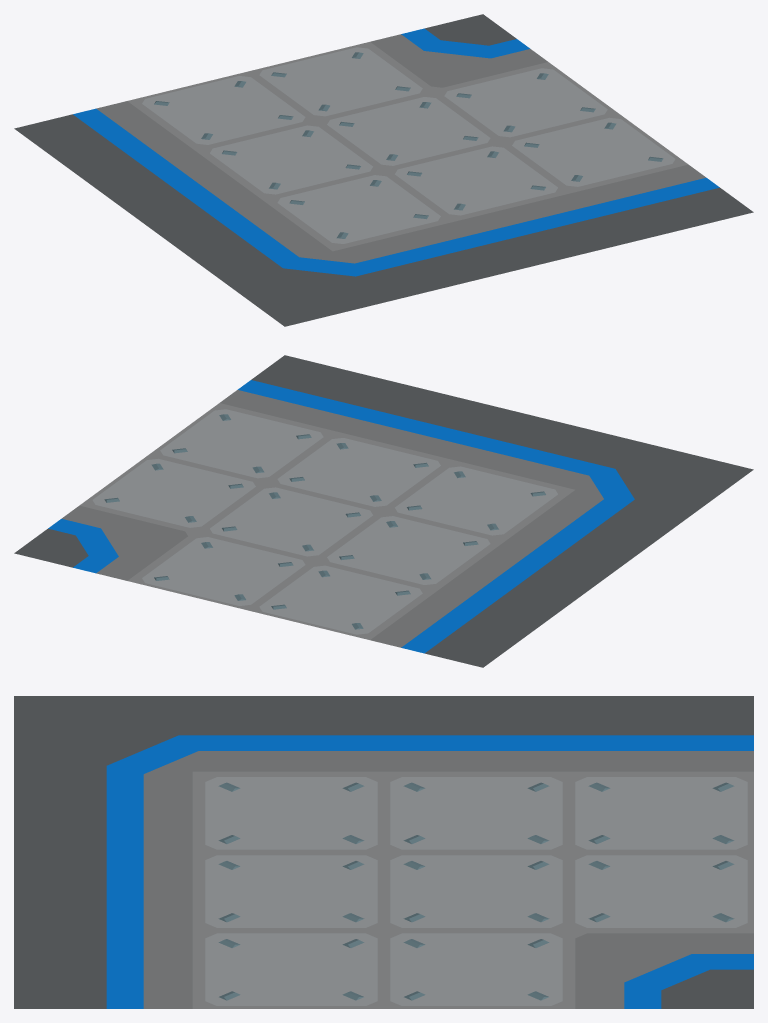
Rendered from Floor_type_B_005.glb.
3 renders of one model, top to bottom at view 1: azimuth 30°, elevation 25°; view 2: azimuth 150°, elevation 25°; view 3: azimuth 270°, elevation 25°, orthographic. The views are drawn at different scales.
Parts seen in each view (by area): view 1: Floor_type_B_005; view 2: Floor_type_B_005; view 3: Floor_type_B_005.
Part boxes in pixels (x1,y1,x2,y2): Floor_type_B_005: (14,14,753,326); Floor_type_B_005: (14,355,753,667); Floor_type_B_005: (14,696,753,1008).
Size of the model in its own units: 4 by 0.008 by 4.
2 materials, 2 textured.
